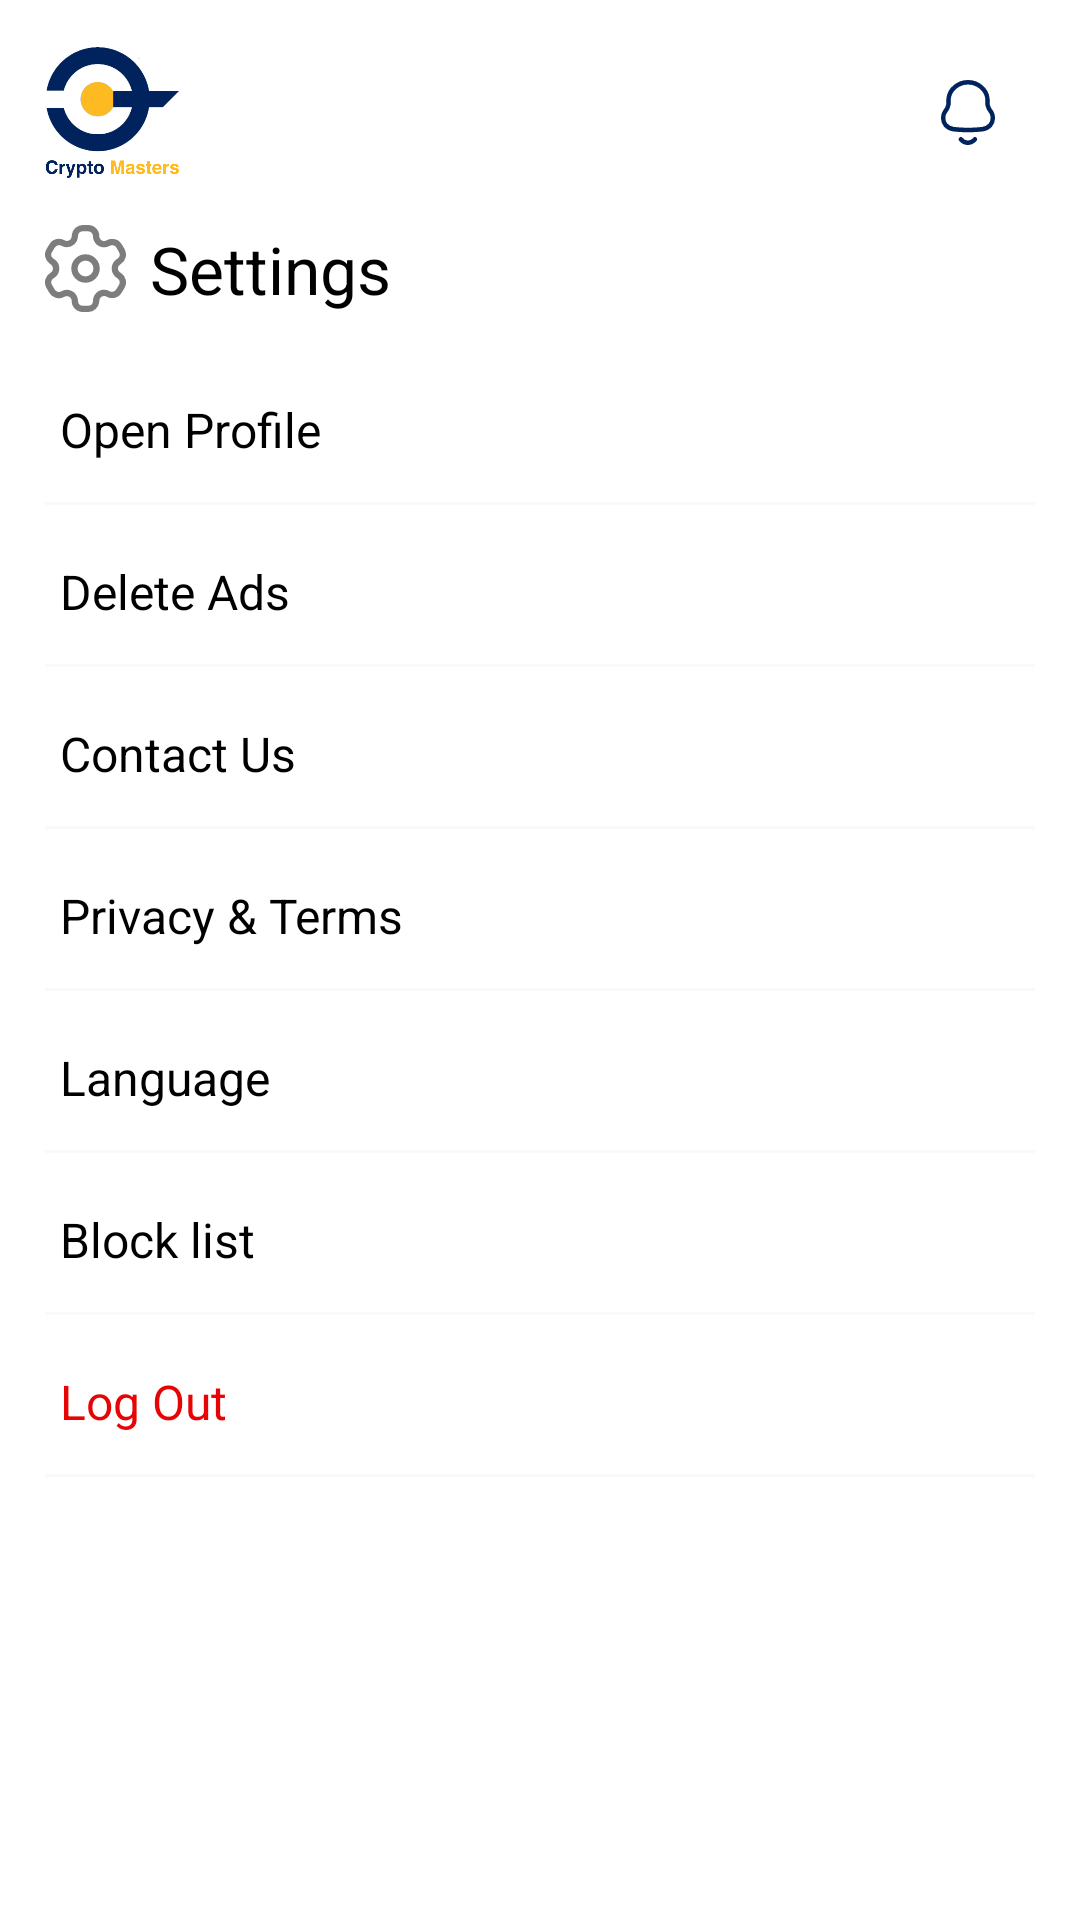

Screen size 1080px x 1920px. Icon name, then its center in pixels as (x=x, y=y):
notification: (x=968, y=112)
